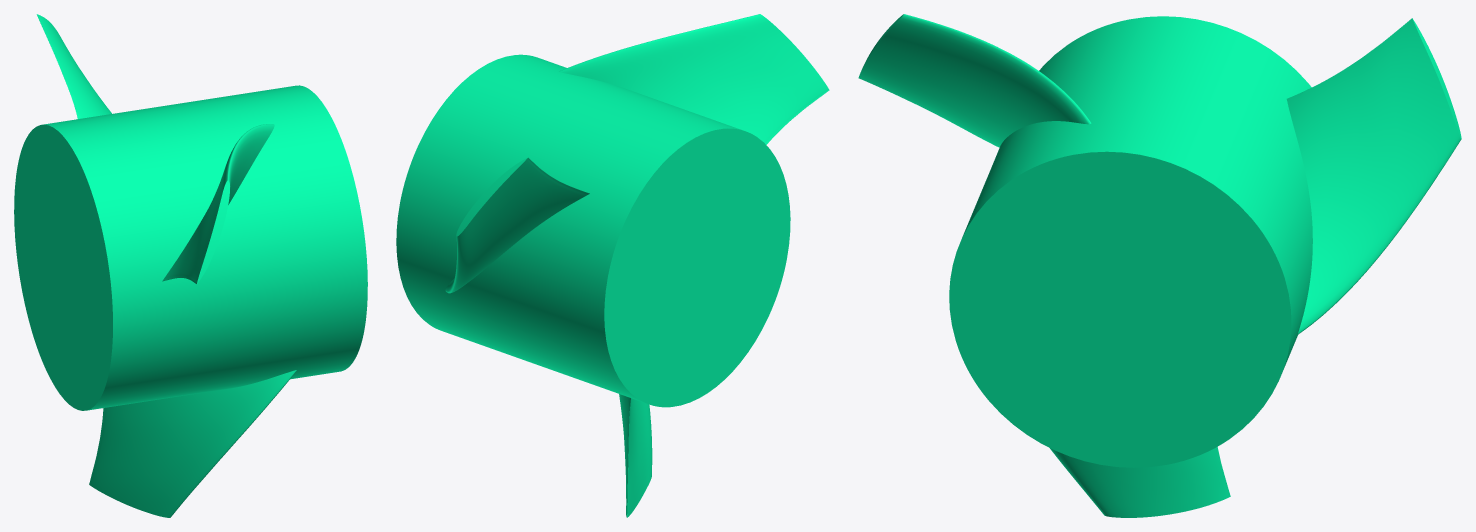
Rendered from puffin_propeller_stb.dae.
3 renders of one model, left to right at view 1: azimuth 30°, elevation 25°; view 2: azimuth 150°, elevation 25°; view 3: azimuth 270°, elevation 25°, orthographic. The views are drawn at different scales.
Parts seen in each view (by area): view 1: PUBLICT200-P-PROPELLER-CW-XJ3-3-solid1; view 2: PUBLICT200-P-PROPELLER-CW-XJ3-3-solid1; view 3: PUBLICT200-P-PROPELLER-CW-XJ3-3-solid1.
Part boxes in pixels (bbox=[...]): PUBLICT200-P-PROPELLER-CW-XJ3-3-solid1: bbox=[14, 14, 367, 517]; PUBLICT200-P-PROPELLER-CW-XJ3-3-solid1: bbox=[396, 14, 829, 517]; PUBLICT200-P-PROPELLER-CW-XJ3-3-solid1: bbox=[858, 14, 1461, 517].
Bounding box in the file's own units: 35.12 × 55.61 × 50.65.
